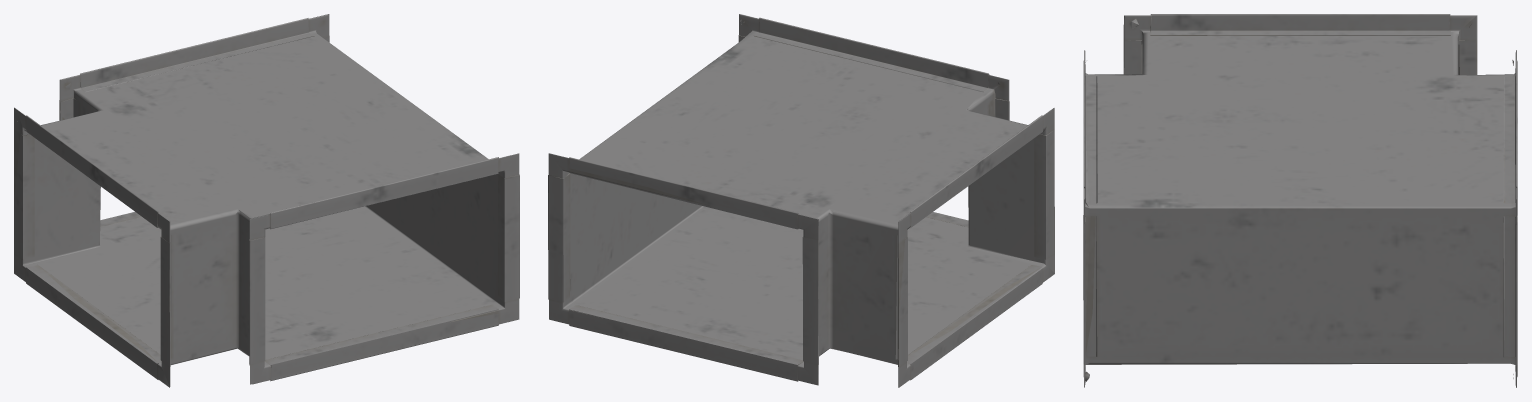
The model's file is SM_Ventilation_Stack05.fbx.
3 views of the same model, side by side, from view 1: azimuth 30°, elevation 25°; view 2: azimuth 150°, elevation 25°; view 3: azimuth 270°, elevation 25° (orthographic). The views are drawn at different scales.
Parts seen in each view (by area): view 1: SM_Ventilation_Stack05_LOD0; view 2: SM_Ventilation_Stack05_LOD0; view 3: SM_Ventilation_Stack05_LOD0.
Part boxes in pixels (bbox=[...]): SM_Ventilation_Stack05_LOD0: bbox=[14, 14, 519, 387]; SM_Ventilation_Stack05_LOD0: bbox=[548, 14, 1054, 387]; SM_Ventilation_Stack05_LOD0: bbox=[1083, 14, 1517, 387].
Size of the model in its own units: 101 by 100 by 48.79.
